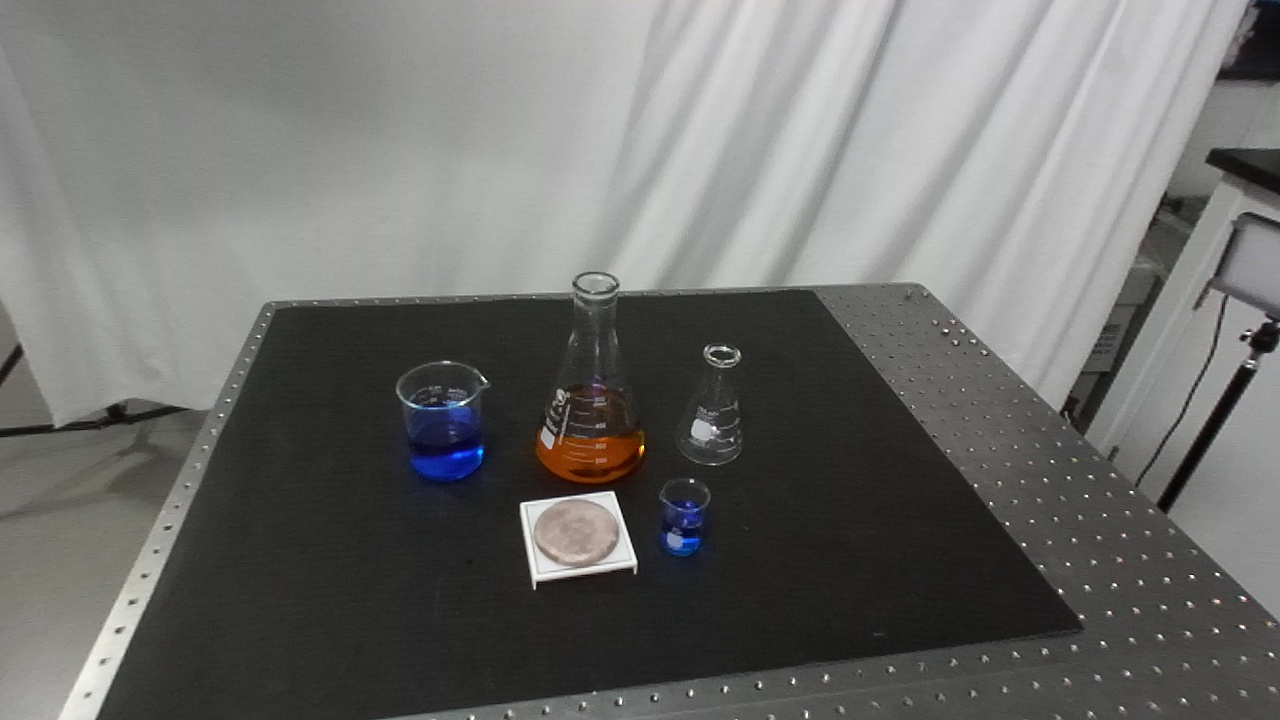glass: (532, 268, 649, 484), (393, 359, 493, 491), (677, 340, 747, 468), (653, 475, 714, 563)
plate: (513, 488, 642, 599)
